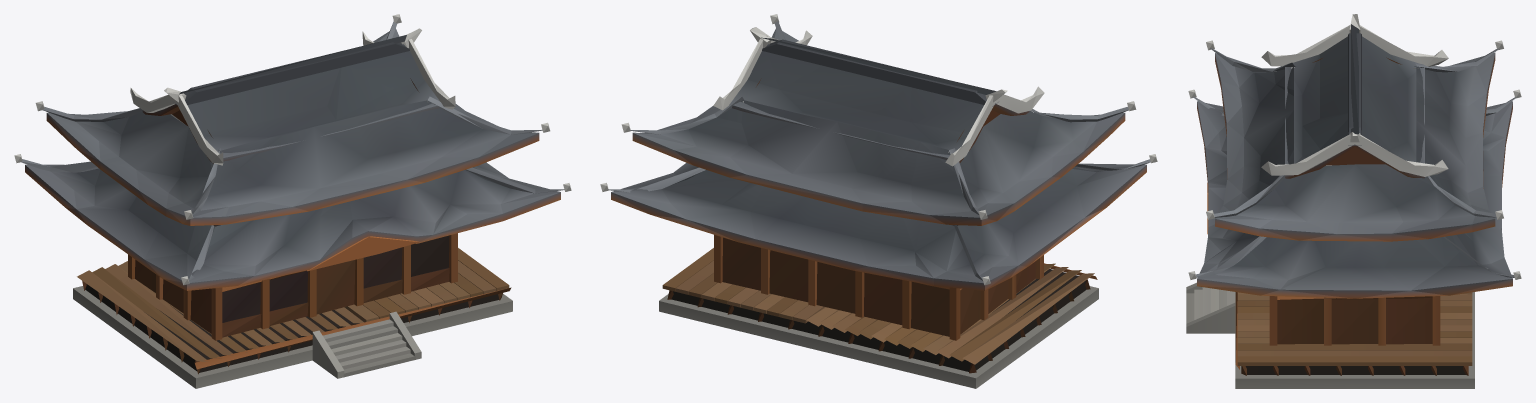
Rendered from zen_temple-lod1.glb.
3 views of the same model, side by side, from view 1: azimuth 30°, elevation 25°; view 2: azimuth 150°, elevation 25°; view 3: azimuth 270°, elevation 25° (orthographic). The views are drawn at different scales.
Visible parts, largest first — view 1: zen_temple; view 2: zen_temple; view 3: zen_temple.
Boxes of the visible parts, box(x1,y1,x2,y2) form: zen_temple: box(14, 14, 571, 388); zen_temple: box(600, 14, 1157, 388); zen_temple: box(1186, 14, 1521, 388).
Size of the model in its own units: 17.14 by 10.42 by 13.16.
